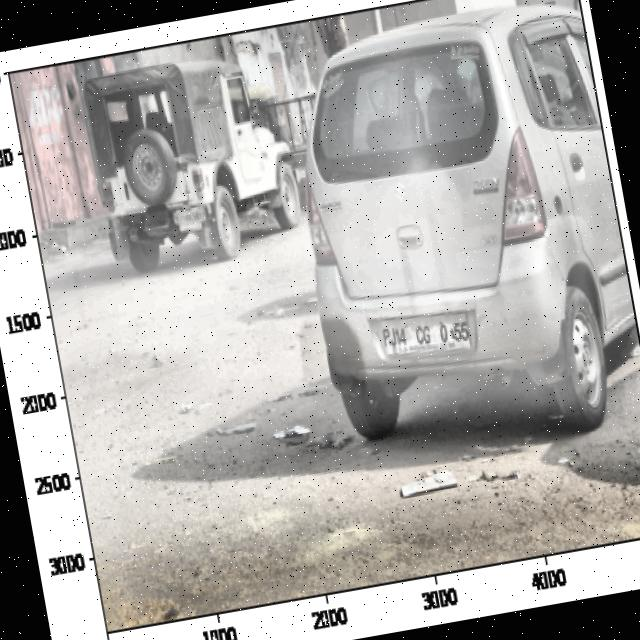license_plate: (377, 306, 474, 364)
